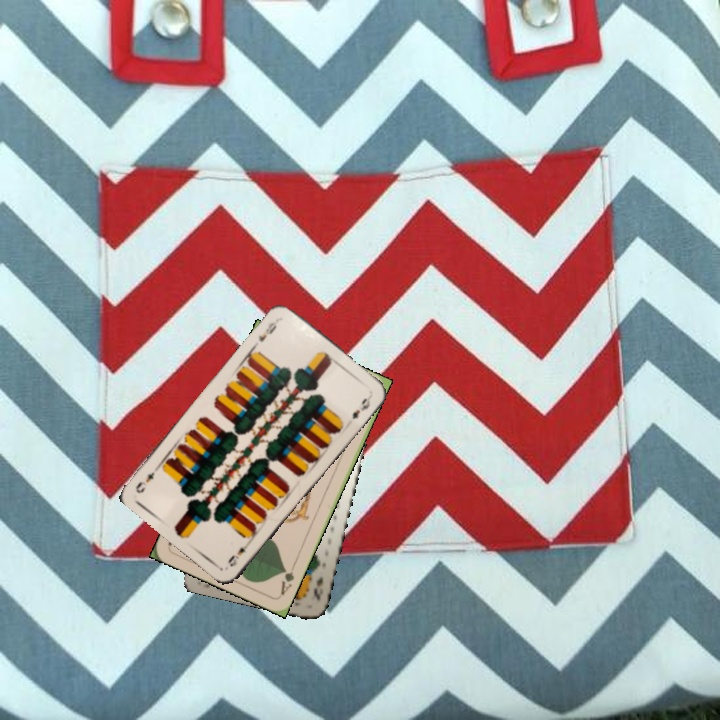E9: (224, 536, 254, 569), (254, 318, 280, 344)
EK: (309, 572, 326, 603)
GA: (276, 559, 298, 598)
